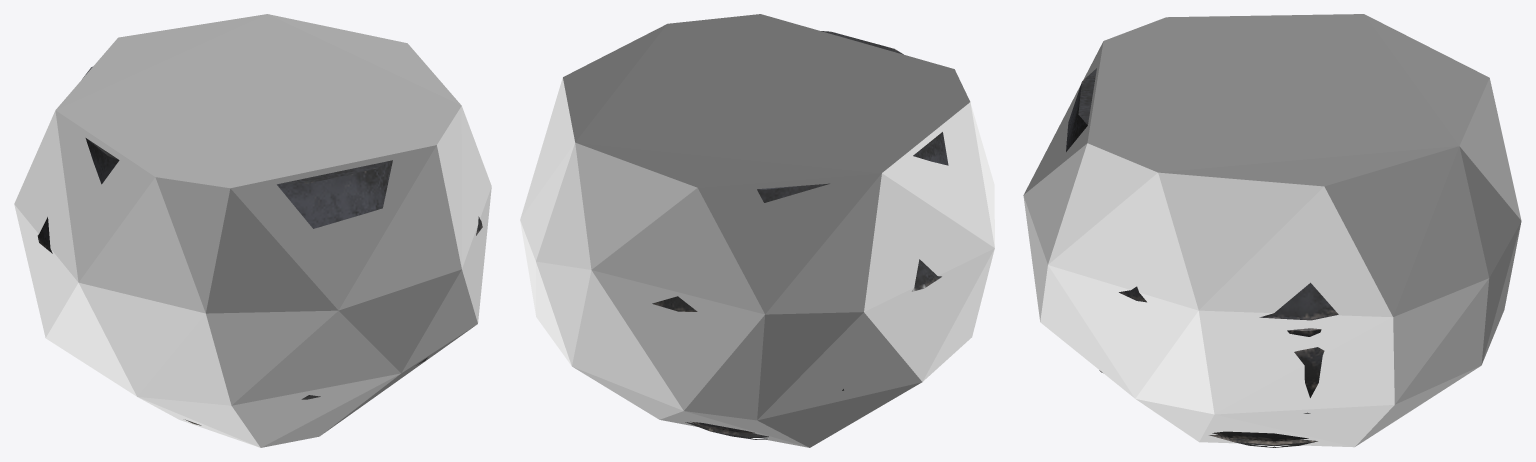
Rendered from SM_Cooler_01.fbx.
3 renders of one model, left to right at view 1: azimuth 30°, elevation 25°; view 2: azimuth 150°, elevation 25°; view 3: azimuth 270°, elevation 25°, orthographic. The views are drawn at different scales.
Parts seen in each view (by area): view 1: SM_Cooler_01_ConvexHulls, SM_Cooler_01_LOD0; view 2: SM_Cooler_01_ConvexHulls, SM_Cooler_01_LOD0; view 3: SM_Cooler_01_ConvexHulls, SM_Cooler_01_LOD0.
Boxes of the visible parts, x1=… form: SM_Cooler_01_ConvexHulls: x1=14, y1=14, x2=491, y2=447; SM_Cooler_01_LOD0: x1=37, y1=66, x2=482, y2=425; SM_Cooler_01_ConvexHulls: x1=520, y1=14, x2=994, y2=447; SM_Cooler_01_LOD0: x1=652, y1=31, x2=948, y2=439; SM_Cooler_01_ConvexHulls: x1=1023, y1=14, x2=1521, y2=447; SM_Cooler_01_LOD0: x1=1066, y1=68, x2=1338, y2=447.
Size of the model in its own units: 166 by 169 by 125.
